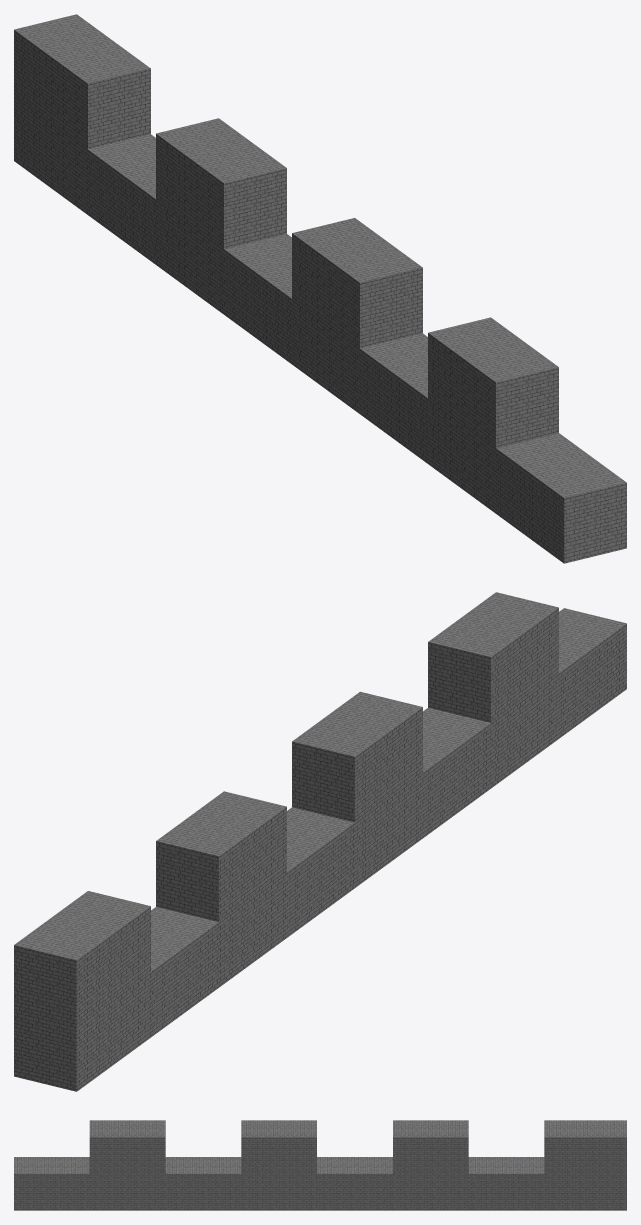
File: SurTop.fbx
3 views of the same model, one above another, from view 1: azimuth 30°, elevation 25°; view 2: azimuth 150°, elevation 25°; view 3: azimuth 270°, elevation 25° (orthographic). The views are drawn at different scales.
Parts seen in each view (by area): view 1: SurTop__3_; view 2: SurTop__3_; view 3: SurTop__3_.
Part boxes in pixels (left/top/right/bottom): SurTop__3_: left=14, top=14, right=626, bottom=563; SurTop__3_: left=14, top=592, right=626, bottom=1091; SurTop__3_: left=14, top=1120, right=626, bottom=1210.
Size of the model in its own units: 300 by 600 by 4550.
1 material, 1 textured.
